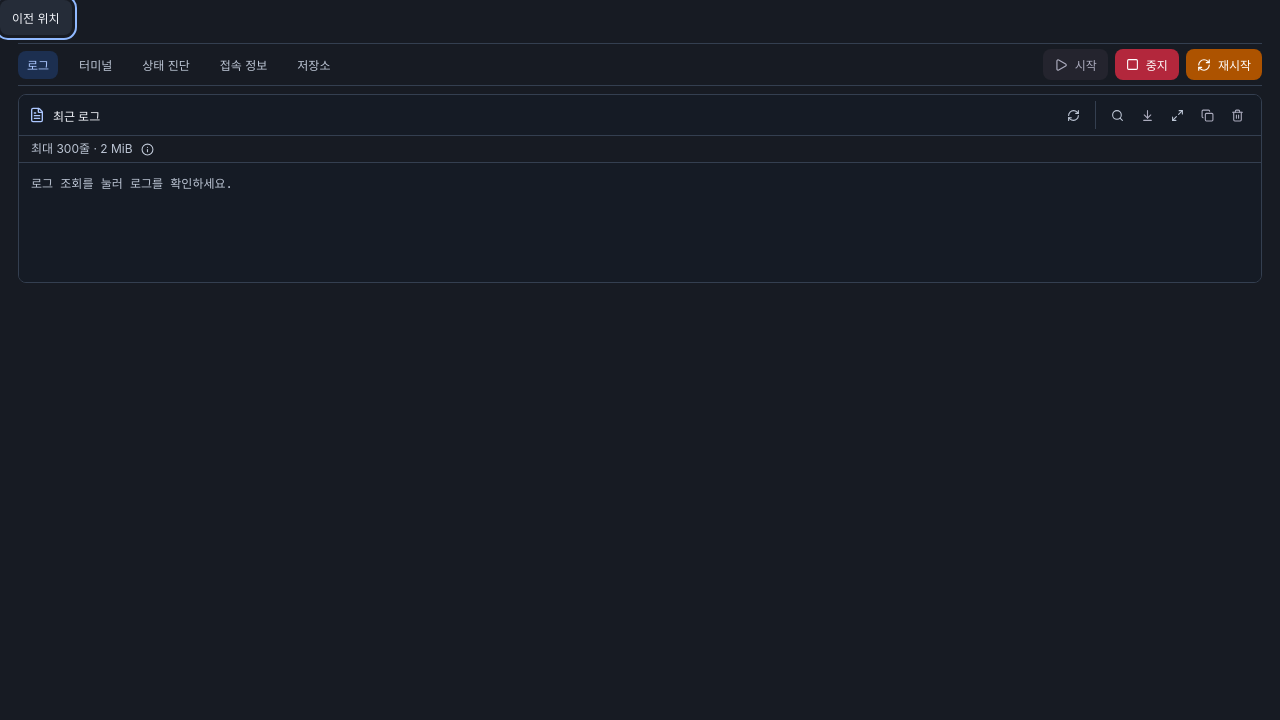
Test: confirmation trigger focus › returns to 중지 after a click that does not focus the button
Click the button "중지" at [1147, 64], box [1115, 49, 1179, 80]
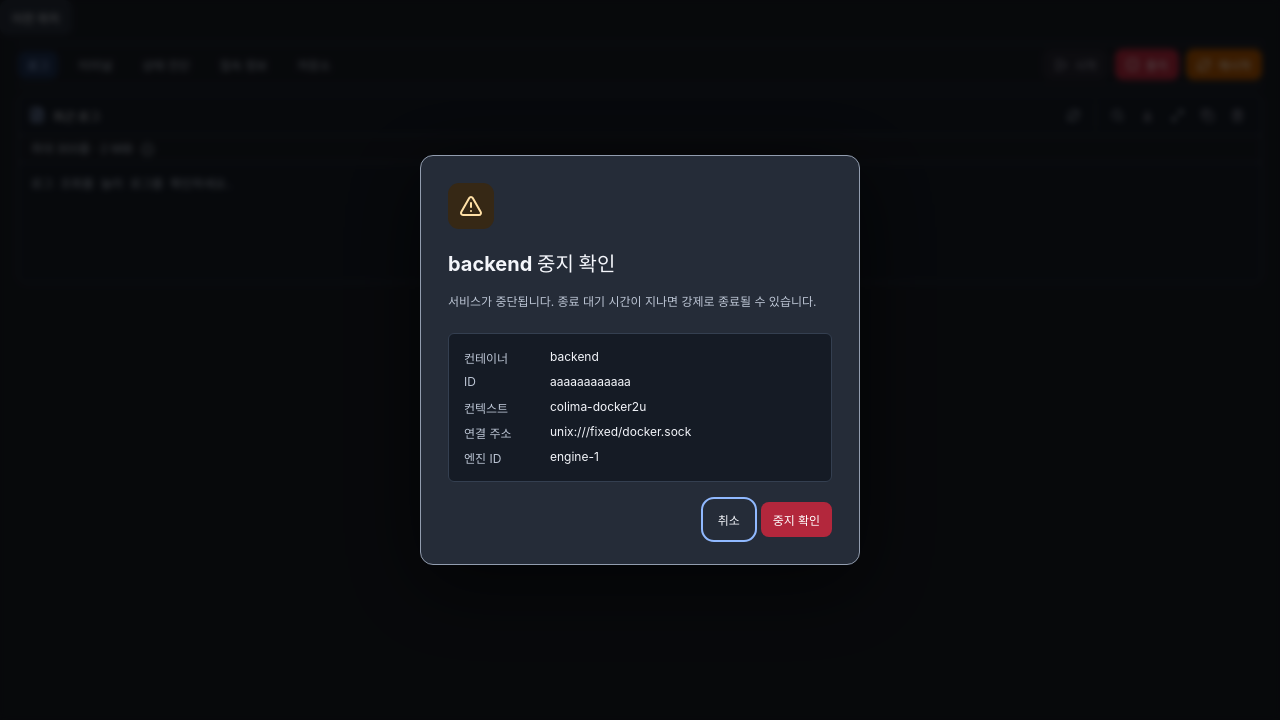
Result: the element with test id "background" has attribute inert at [0, 0, 1279, 295]
Press Escape in the button "취소", box [706, 502, 752, 537]
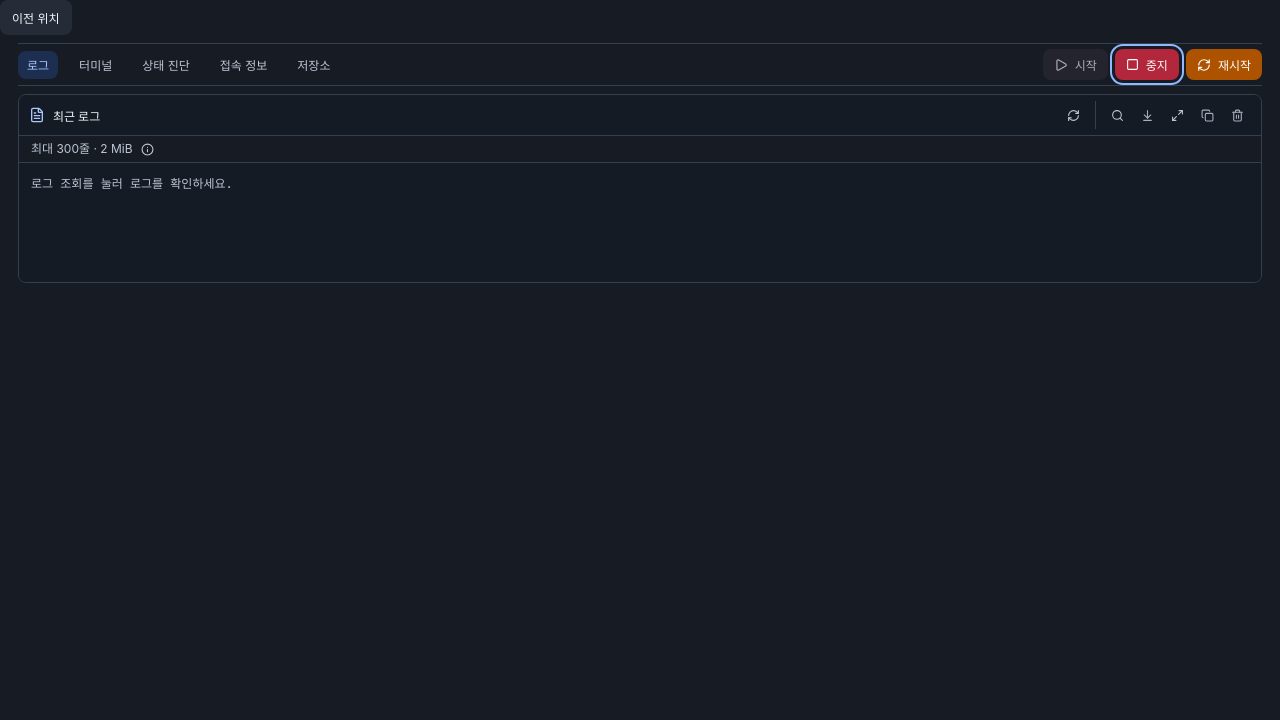
Result: the dialog is gone
